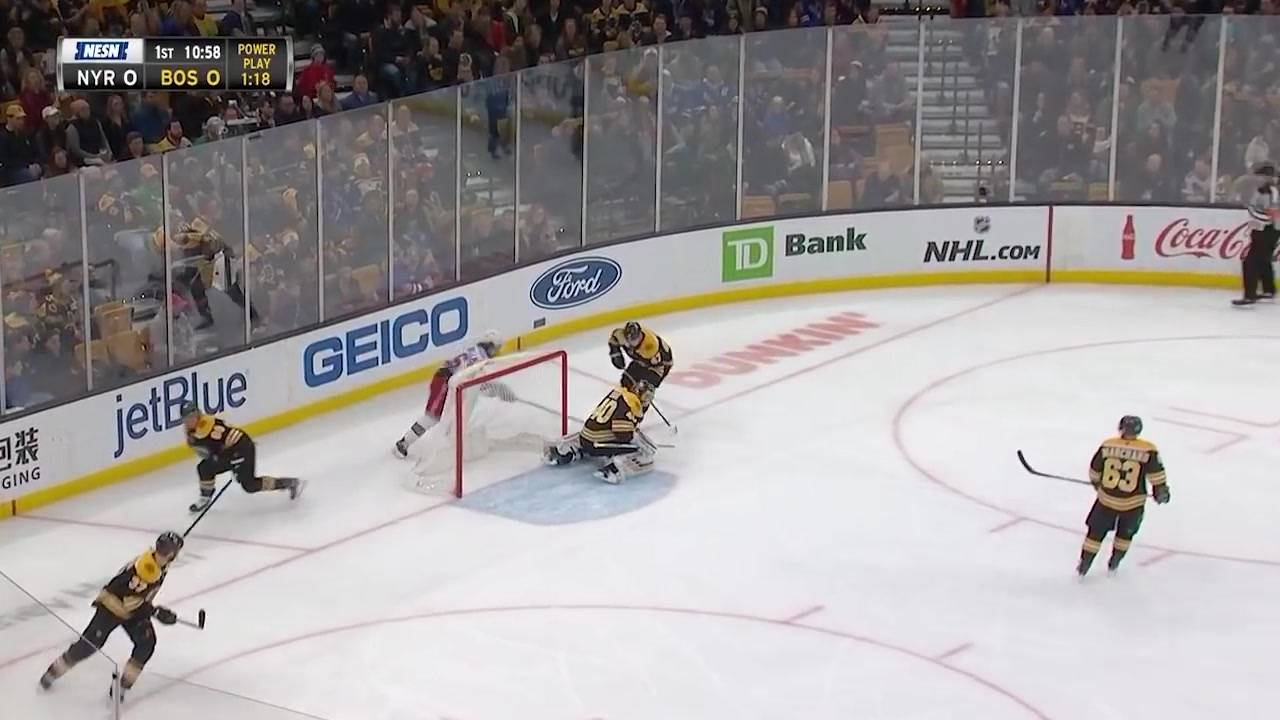Geico: (294, 290, 468, 399)
